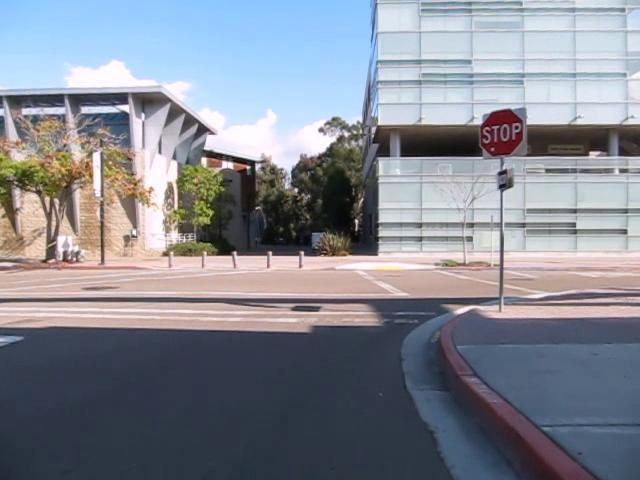stop: (479, 107, 525, 158)
